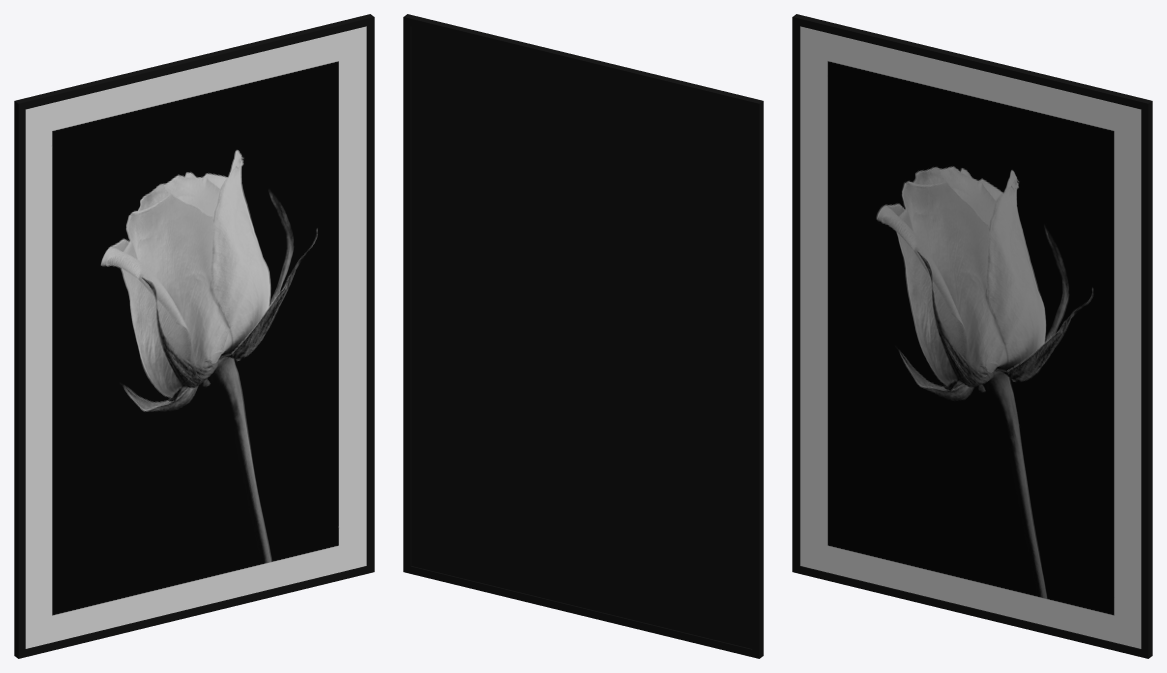
Rendered from Picture 3.FBX.
3 views of the same model, side by side, from view 1: azimuth 30°, elevation 25°; view 2: azimuth 150°, elevation 25°; view 3: azimuth 330°, elevation 25° (orthographic).
Parts seen in each view (by area): view 1: picture 3; view 2: picture 3; view 3: picture 3.
Boxes of the visible parts, bbox=[...] form: picture 3: bbox=[14, 14, 374, 658]; picture 3: bbox=[403, 14, 763, 658]; picture 3: bbox=[792, 14, 1152, 658].
Size of the model in its own units: 40.43 by 60.26 by 0.8056.
Materials: 1 (1 with a texture image).
